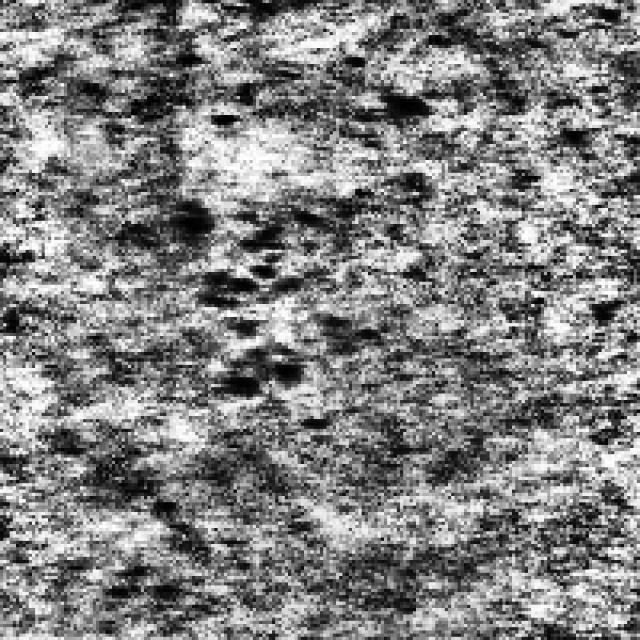Crazing: (179, 164, 355, 438)
